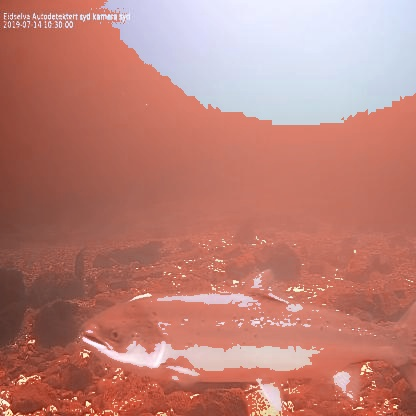salmon: (77, 266, 416, 416)
